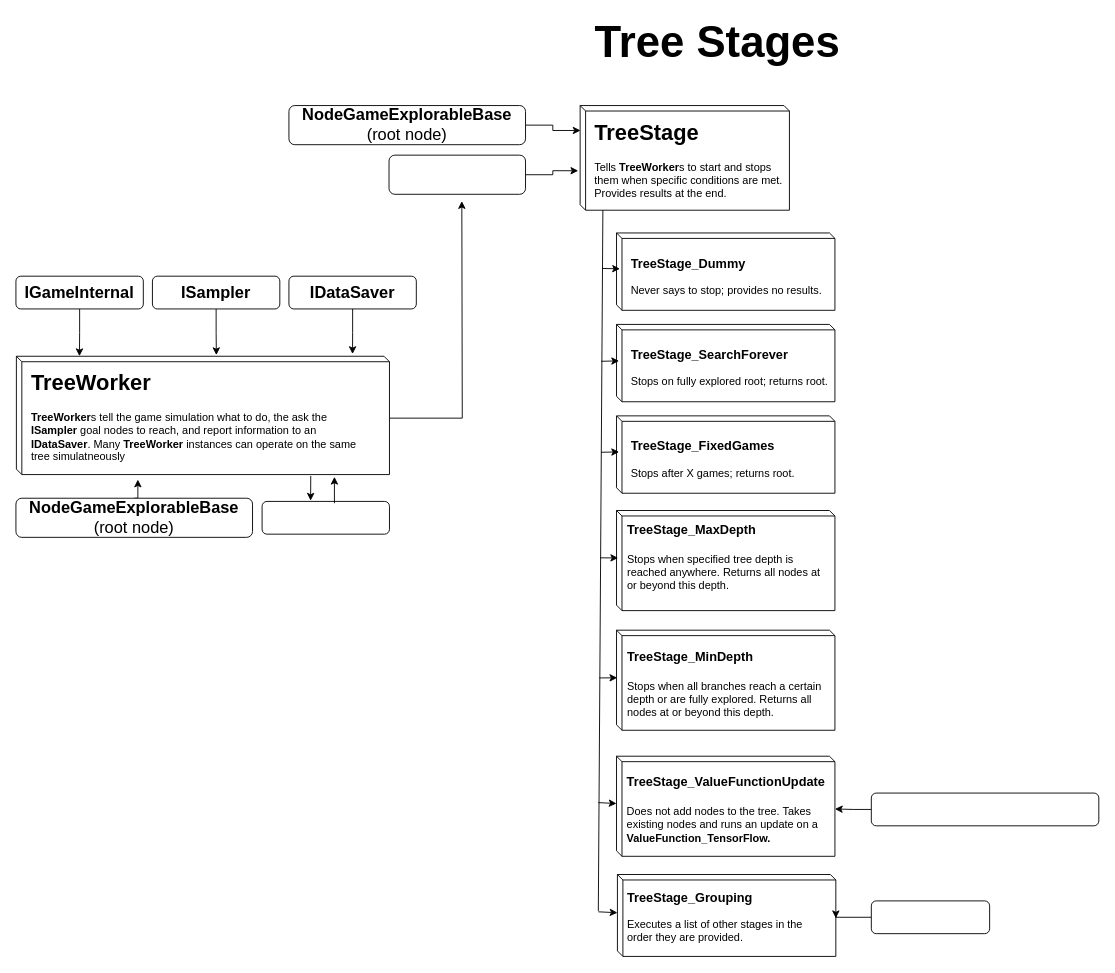
The diagram is 1115 pixels wide and 973 high, and some of its shapes have lost their labels. The box of each missing label's shape, as (x1, y1, x2, y2) in pixels:
ActionQueue: (261, 500, 389, 534)
TreeStage list: (870, 900, 990, 934)
TreeWorker list: (388, 154, 526, 194)
ValueFunction_Tensorflow: (870, 792, 1099, 826)
